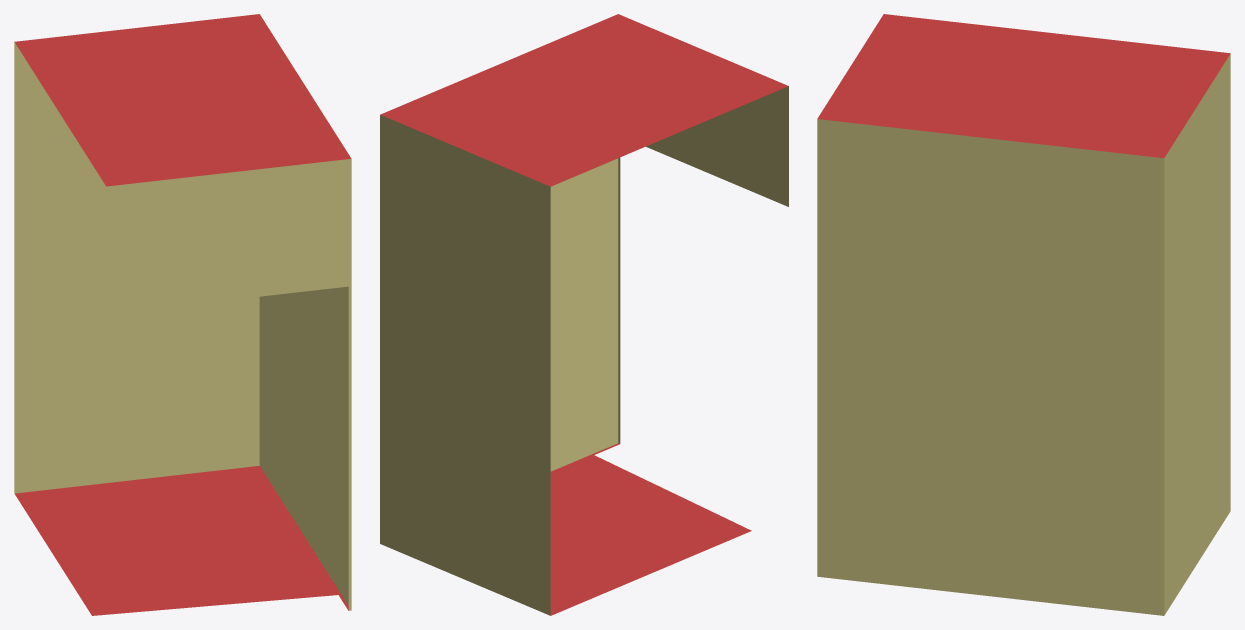
The picture shows the model from 3 angles, left to right: view 1: azimuth 30°, elevation 25°; view 2: azimuth 150°, elevation 25°; view 3: azimuth 270°, elevation 25°; orthographic projection. The views are drawn at different scales.
Visible parts, largest first — view 1: group_4, group_3, group_5; view 2: group_4, group_3, group_5; view 3: group_4, group_3.
Part boxes in pixels (x1=…): group_4: x1=14, y1=42, x2=351, y2=610; group_3: x1=14, y1=14, x2=351, y2=186; group_5: x1=15, y1=466, x2=348, y2=615; group_4: x1=380, y1=86, x2=788, y2=615; group_3: x1=380, y1=14, x2=788, y2=186; group_5: x1=550, y1=443, x2=751, y2=615; group_4: x1=817, y1=54, x2=1230, y2=615; group_3: x1=817, y1=14, x2=1230, y2=158.
Bounding box in the file's own units: 7.76 × 9.41 × 11.48.
